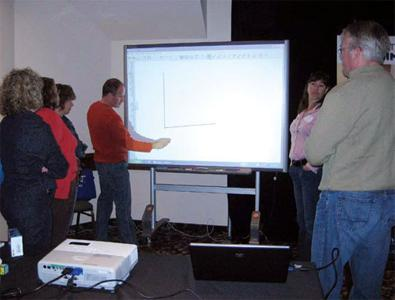person: (88, 79, 173, 249)
